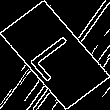L_NE: (24, 27, 86, 83)
